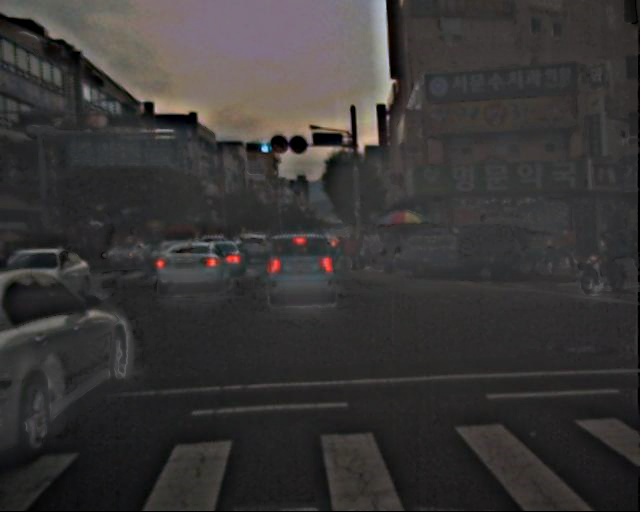person: (342, 226, 401, 272), (592, 236, 615, 292), (559, 226, 577, 271), (540, 231, 558, 274)
